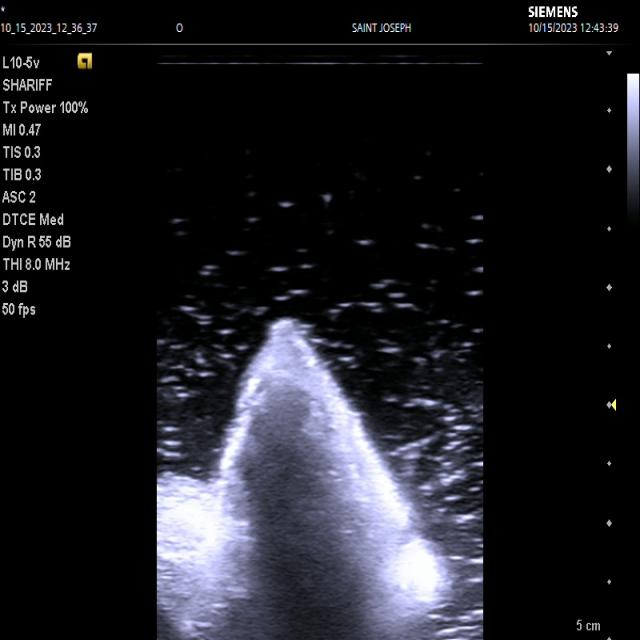tissue: (157, 318, 452, 640)
